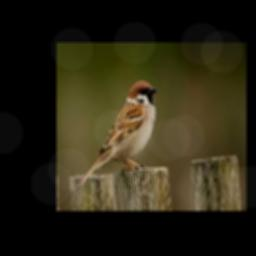Sparrow: (77, 80, 156, 189)
